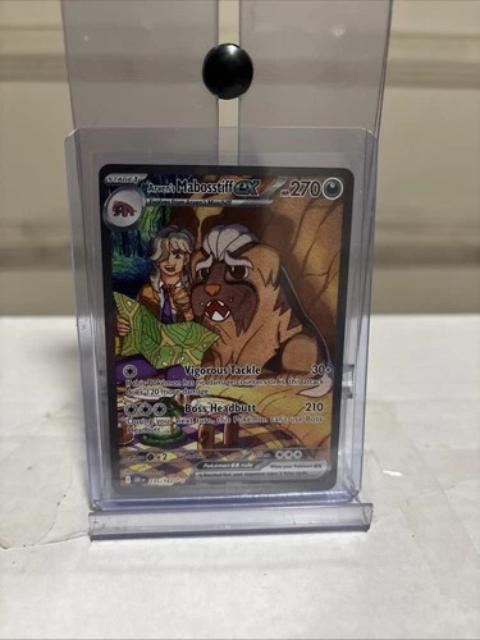Card: (93, 154, 357, 500)
Name: (142, 173, 262, 198)
